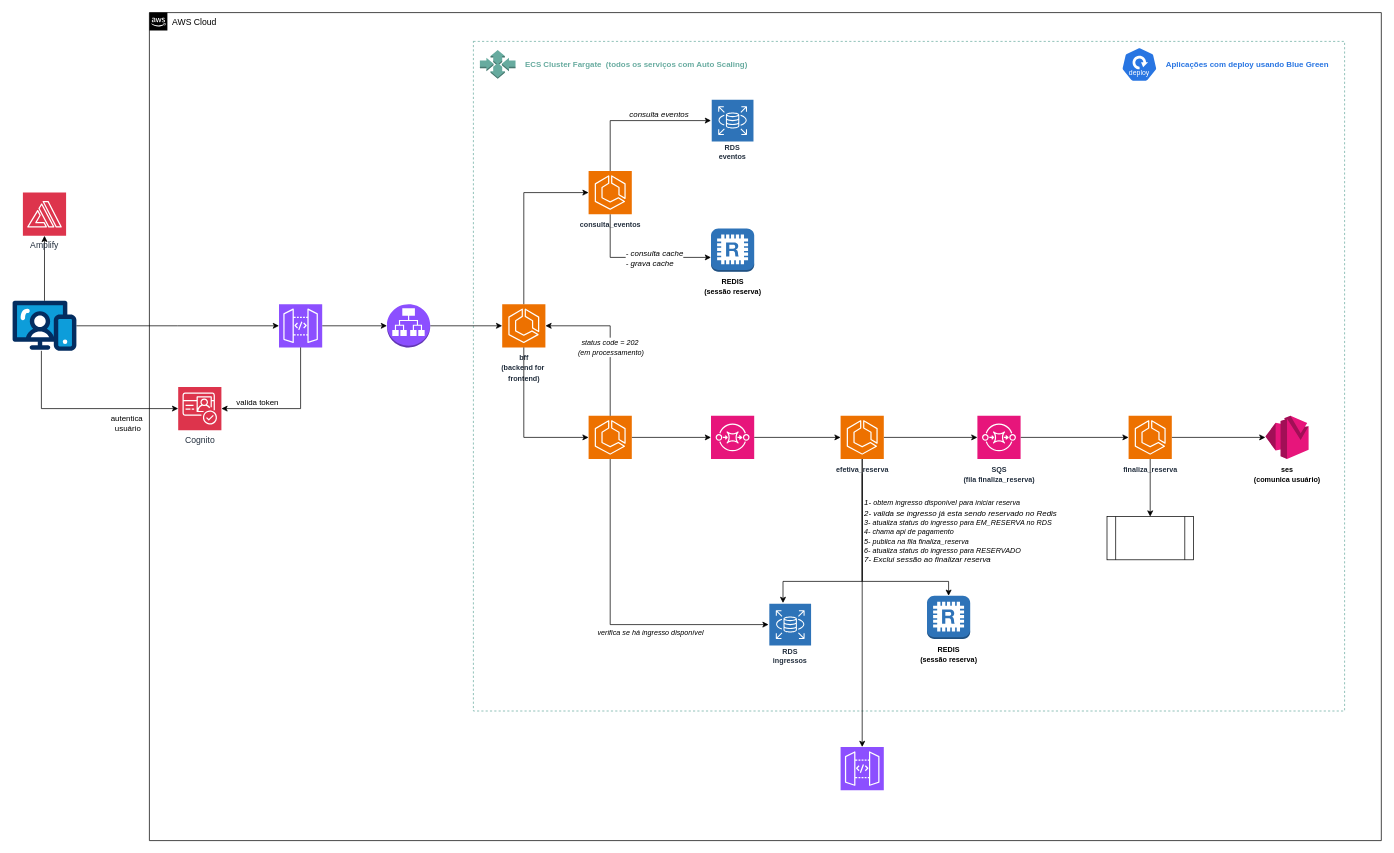
The diagram is 1394 pixels wide and 853 high, and some of its shapes have lost their labels. The shapes that lost their labels are listed below. From the top down, each one's centre as x and y in pixels, then its label:
At [300,325]: "Api Gateway".
At [408,325]: "ALB".
At [610,437]: "reserva_ingresso".
At [732,437]: "SQS (fila efetiva_reserva)".
At [1149,538]: "gera QRCdoe".
At [862,768]: "api de pagamento".
